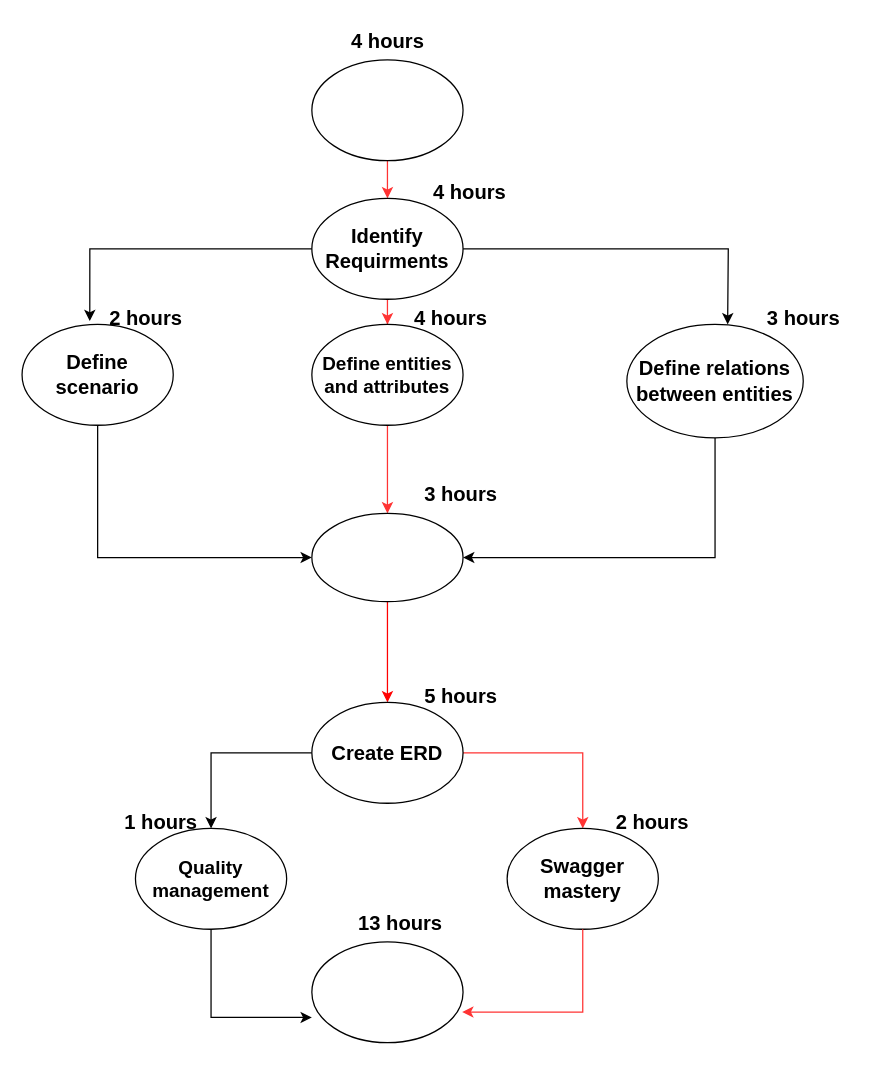
Some shapes in this 876 by 1065 pixel diagram are drawn without their labels. The box of each missing label's shape, as (x1, y1, x2, y2) in pixels:
API Documentation: (311, 941, 463, 1043)
Domain searching: (311, 59, 463, 161)
Risk management: (311, 512, 463, 602)
